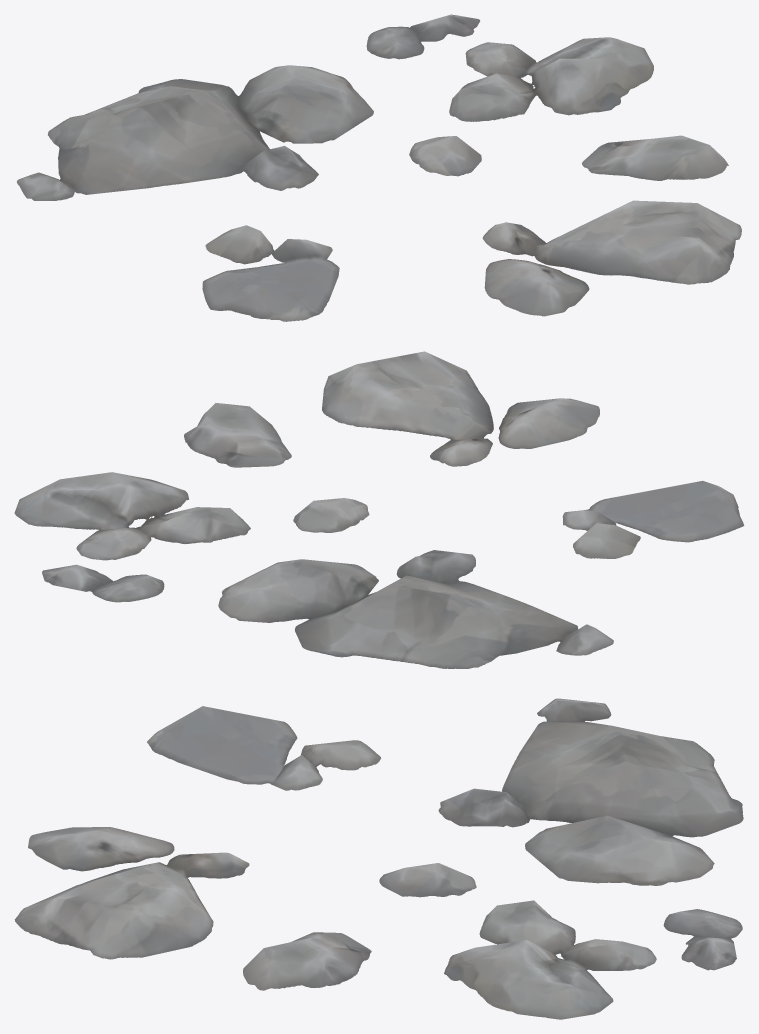
File: SM_PebblesGroup_05.fbx
The picture shows the model from 3 angles, top to bottom: view 1: azimuth 30°, elevation 25°; view 2: azimuth 150°, elevation 25°; view 3: azimuth 270°, elevation 25°; orthographic projection. The views are drawn at different scales.
Parts seen in each view (by area): view 1: SM_PebblesGroup_05_LOD0; view 2: SM_PebblesGroup_05_LOD0; view 3: SM_PebblesGroup_05_LOD0.
Boxes of the visible parts, x1,y1,x2,y2 form: SM_PebblesGroup_05_LOD0: (17,14,741,321); SM_PebblesGroup_05_LOD0: (14,351,744,668); SM_PebblesGroup_05_LOD0: (14,698,743,1019).
Size of the model in its own units: 160 by 9.17 by 153.
